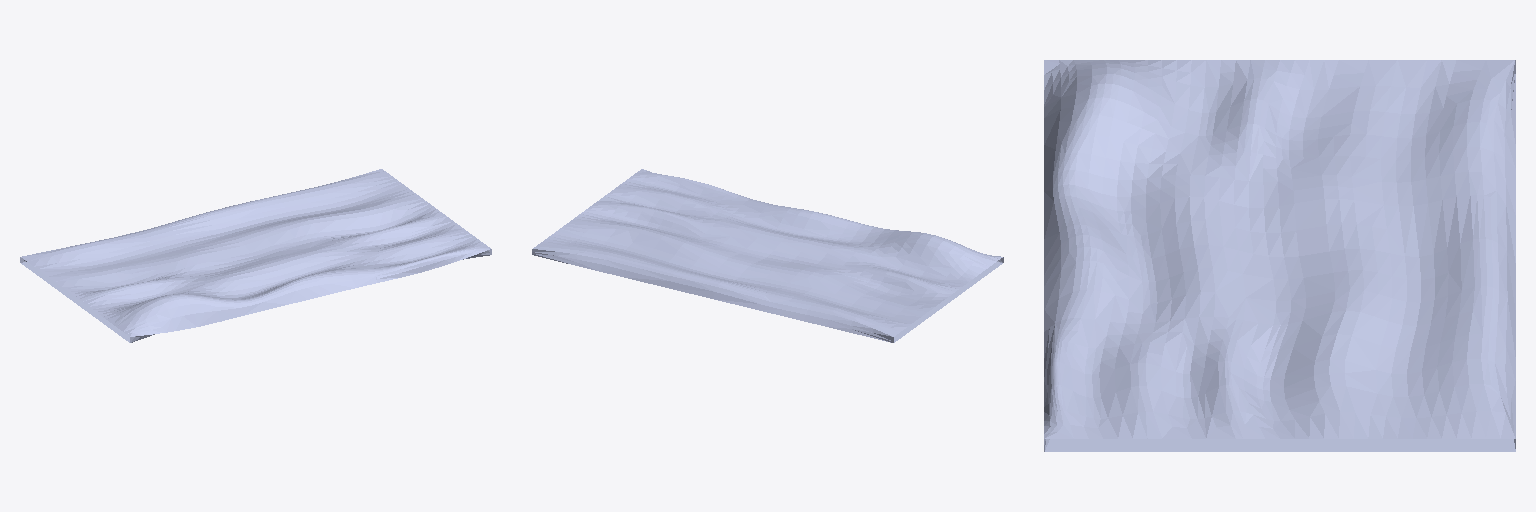
URDF robot description (floor_feature_3):
<?xml version="1.0" encoding="utf-8"?>
<!-- This URDF was automatically created by SolidWorks to URDF Exporter! Originally created by [author] ([email redacted]) 
     Commit Version: 1.6.0-1-g15f4949  Build Version: 1.6.7594.29634
     For more information, please see http://wiki.ros.org/sw_urdf_exporter -->
<robot
  name="floor_feature_3">
  <link
    name="base_link">
    <inertial>
      <origin
        xyz="0 0 0"
        rpy="0 0 0" />
      <mass
        value="0" />
      <inertia
        ixx="0"
        ixy="0"
        ixz="0"
        iyy="0"
        iyz="0"
        izz="0" />
    </inertial>
    <visual>
      <origin
        xyz="0 0 0"
        rpy="0 0 0" />
      <geometry>
        <mesh
          filename="package://floor_feature_3/meshes/base_link.STL" scale="10 15 10"/>
      </geometry>
      <material
        name="">
        <color
          rgba="0.792156862745098 0.819607843137255 0.933333333333333 1" />
      </material>
    </visual>
    <collision>
      <origin
        xyz="0 0 0"
        rpy="0 0 0" />
      <geometry>
        <mesh
          filename="package://floor_feature_3/meshes/base_link.STL" scale="10 15 10"/>
      </geometry>
    </collision>
  </link>

<gazebo reference = 'base_link'>
<material> Gazebo/Sand_Floor </material>
</gazebo>

<gazebo>
<static> true </static>
</gazebo>

</robot>

--- What the picture shows (computed from the rendered views, not written in the file) ---
Views: 3 orthographic renders of the robot side by side, from view 1: azimuth 30°, elevation 25°; view 2: azimuth 150°, elevation 25°; view 3: azimuth 270°, elevation 25°.
Model floor_feature_3 with 1 links and 0 joints (none), rooted at base_link, posed all joints at 0.
Links seen in each view (by area): view 1: base_link; view 2: base_link; view 3: base_link.
Link boxes in pixels (left/top/right/bottom): base_link: left=20, top=169, right=491, bottom=342; base_link: left=532, top=169, right=1003, bottom=342; base_link: left=1044, top=60, right=1515, bottom=451.
Bounding box of the posed robot: 3 × 1.58 × 0.1848 m (x, y, z).
Meshes: 1 distinct files referenced, 1 mesh visuals loaded (1 binary STL).